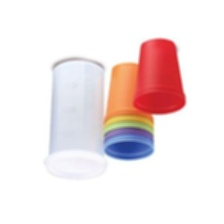glass: (33, 55, 108, 192), (101, 57, 156, 162), (126, 34, 189, 122)
